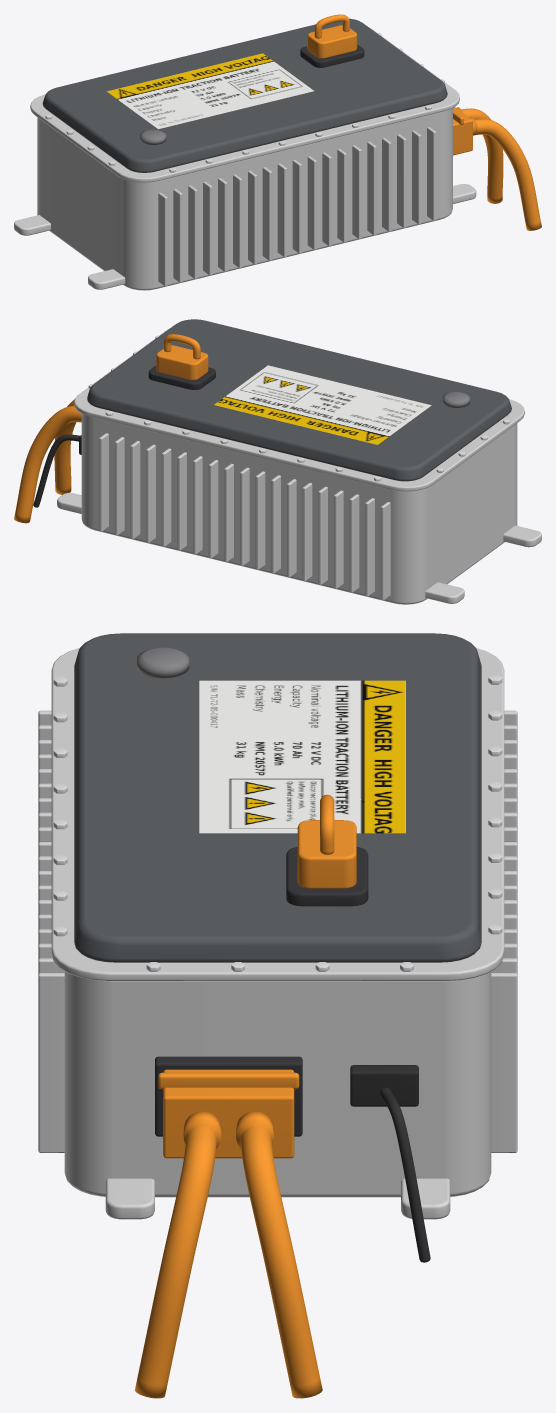
File: battery_hv.glb
3 views of the same model, one above another, from view 1: azimuth 30°, elevation 25°; view 2: azimuth 150°, elevation 25°; view 3: azimuth 270°, elevation 25° (orthographic). The views are drawn at different scales.
Visible parts, largest first — view 1: battery_hv__enclosure, battery_hv__lid, battery_hv__cooling_fins, battery_hv__label, battery_hv__flange, battery_hv__hv_cables, battery_hv__service_disconnect, battery_hv__mount_feet, battery_hv__hv_connector, battery_hv__lid_bolts, battery_hv__pressure_vent; view 2: battery_hv__enclosure, battery_hv__lid, battery_hv__cooling_fins, battery_hv__label, battery_hv__flange, battery_hv__hv_cables, battery_hv__service_disconnect, battery_hv__mount_feet, battery_hv__lv_connector, battery_hv__lid_bolts, battery_hv__pressure_vent; view 3: battery_hv__lid, battery_hv__enclosure, battery_hv__label, battery_hv__flange, battery_hv__hv_cables, battery_hv__cooling_fins, battery_hv__hv_connector, battery_hv__service_disconnect, battery_hv__lv_connector, battery_hv__mount_feet, battery_hv__lid_bolts, battery_hv__pressure_vent.
Part boxes in pixels (box(x1,y1,x2,y2)): battery_hv__enclosure: box(37, 108, 452, 290); battery_hv__lid: box(42, 18, 447, 172); battery_hv__cooling_fins: box(158, 127, 436, 286); battery_hv__label: box(107, 53, 313, 129); battery_hv__flange: box(30, 27, 459, 182); battery_hv__hv_cables: box(456, 107, 541, 230); battery_hv__service_disconnect: box(300, 14, 364, 67); battery_hv__mount_feet: box(14, 184, 476, 289); battery_hv__hv_connector: box(453, 107, 472, 155); battery_hv__lid_bolts: box(45, 33, 444, 172); battery_hv__pressure_vent: box(140, 129, 166, 144); battery_hv__enclosure: box(81, 413, 517, 604); battery_hv__lid: box(87, 319, 511, 481); battery_hv__cooling_fins: box(99, 433, 390, 600); battery_hv__label: box(214, 365, 431, 444); battery_hv__flange: box(74, 329, 524, 491); battery_hv__hv_cables: box(14, 399, 81, 523); battery_hv__service_disconnect: box(148, 334, 215, 389); battery_hv__mount_feet: box(57, 493, 541, 603); battery_hv__lv_connector: box(33, 434, 81, 507); battery_hv__lid_bolts: box(88, 335, 510, 481); battery_hv__pressure_vent: box(442, 392, 469, 407); battery_hv__lid: box(74, 633, 481, 962); battery_hv__enclosure: box(64, 971, 491, 1197); battery_hv__label: box(199, 680, 405, 833); battery_hv__flange: box(51, 648, 504, 980); battery_hv__hv_cables: box(135, 1111, 322, 1398); battery_hv__cooling_fins: box(38, 710, 517, 1152); battery_hv__hv_connector: box(155, 1056, 302, 1158); battery_hv__service_disconnect: box(286, 794, 368, 906); battery_hv__lv_connector: box(350, 1065, 430, 1262); battery_hv__mount_feet: box(105, 1178, 450, 1219); battery_hv__lid_bolts: box(53, 675, 502, 971); battery_hv__pressure_vent: box(137, 647, 189, 678).
Bounding box in the file's own units: 64.04 × 29.52 × 29.2.
8 materials, 1 textured.
